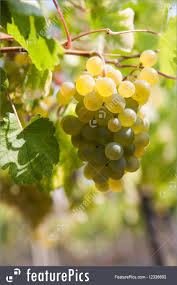grapes: (62, 52, 162, 187)
